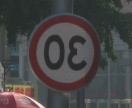Speed limit: (23, 11, 108, 90)
